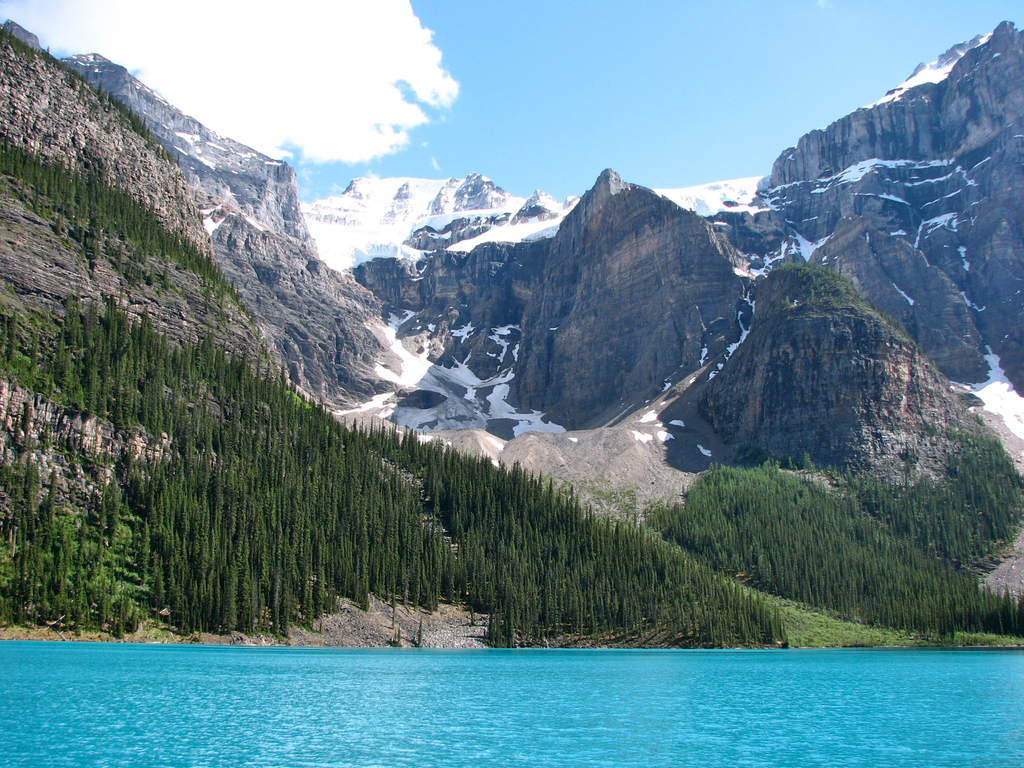Tree: (0, 291, 789, 650), (648, 435, 1024, 642), (1, 152, 260, 318), (0, 34, 150, 145)
